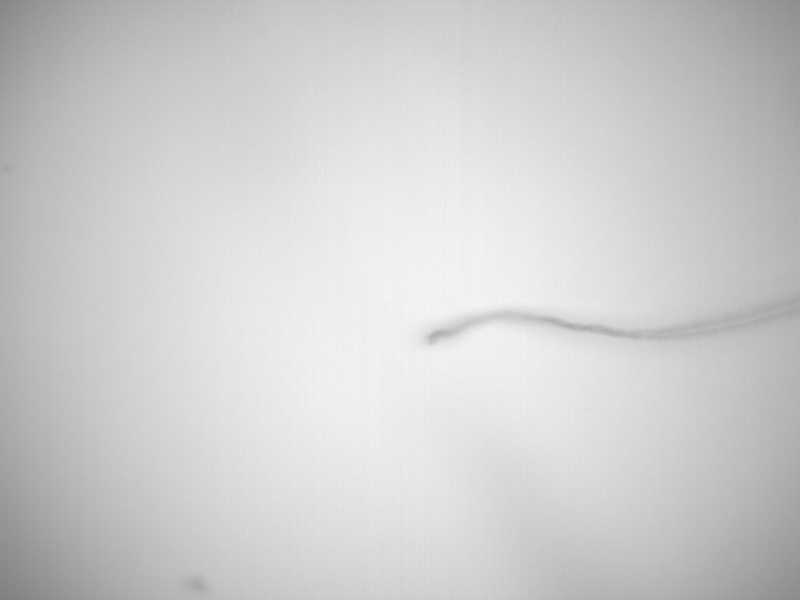fiber: (424, 299, 800, 353)
